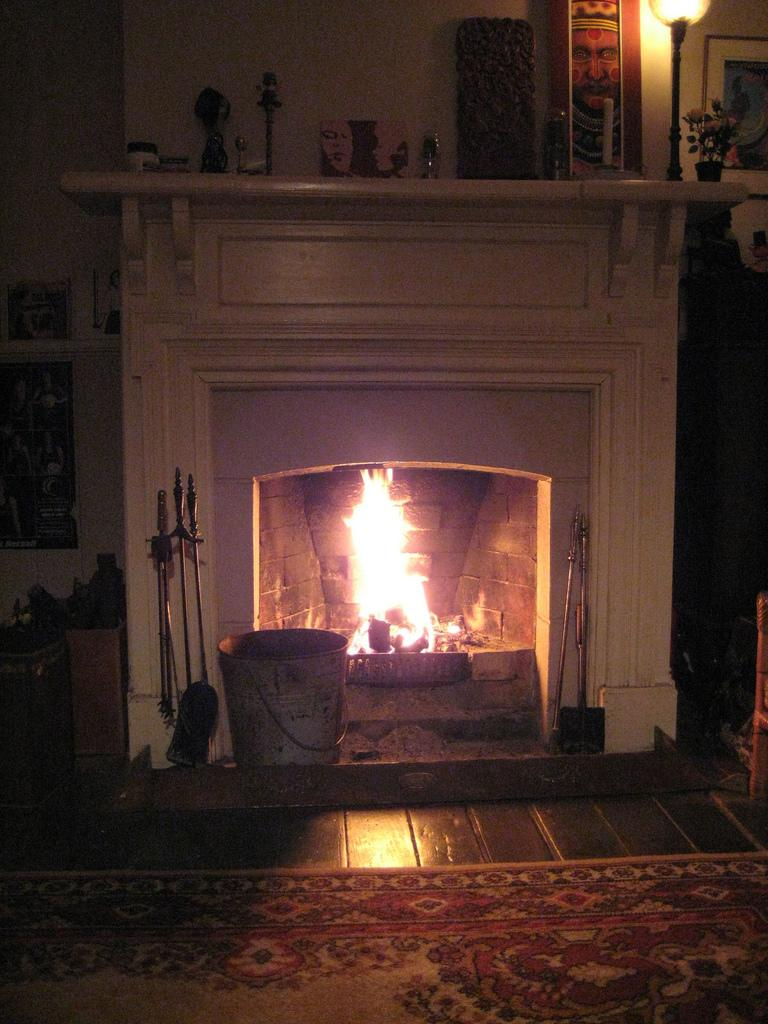fire: (332, 492, 432, 615)
